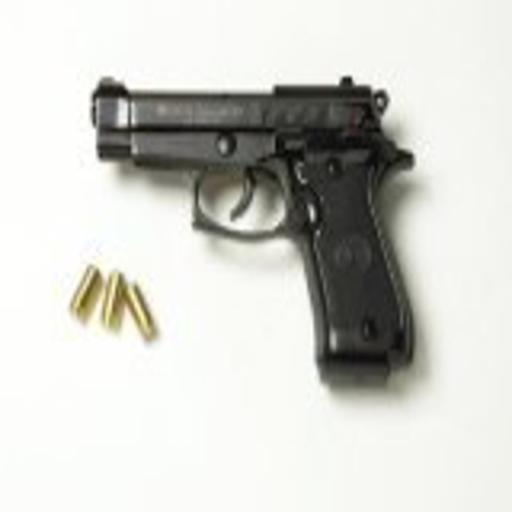Handgun: (88, 71, 418, 378)
